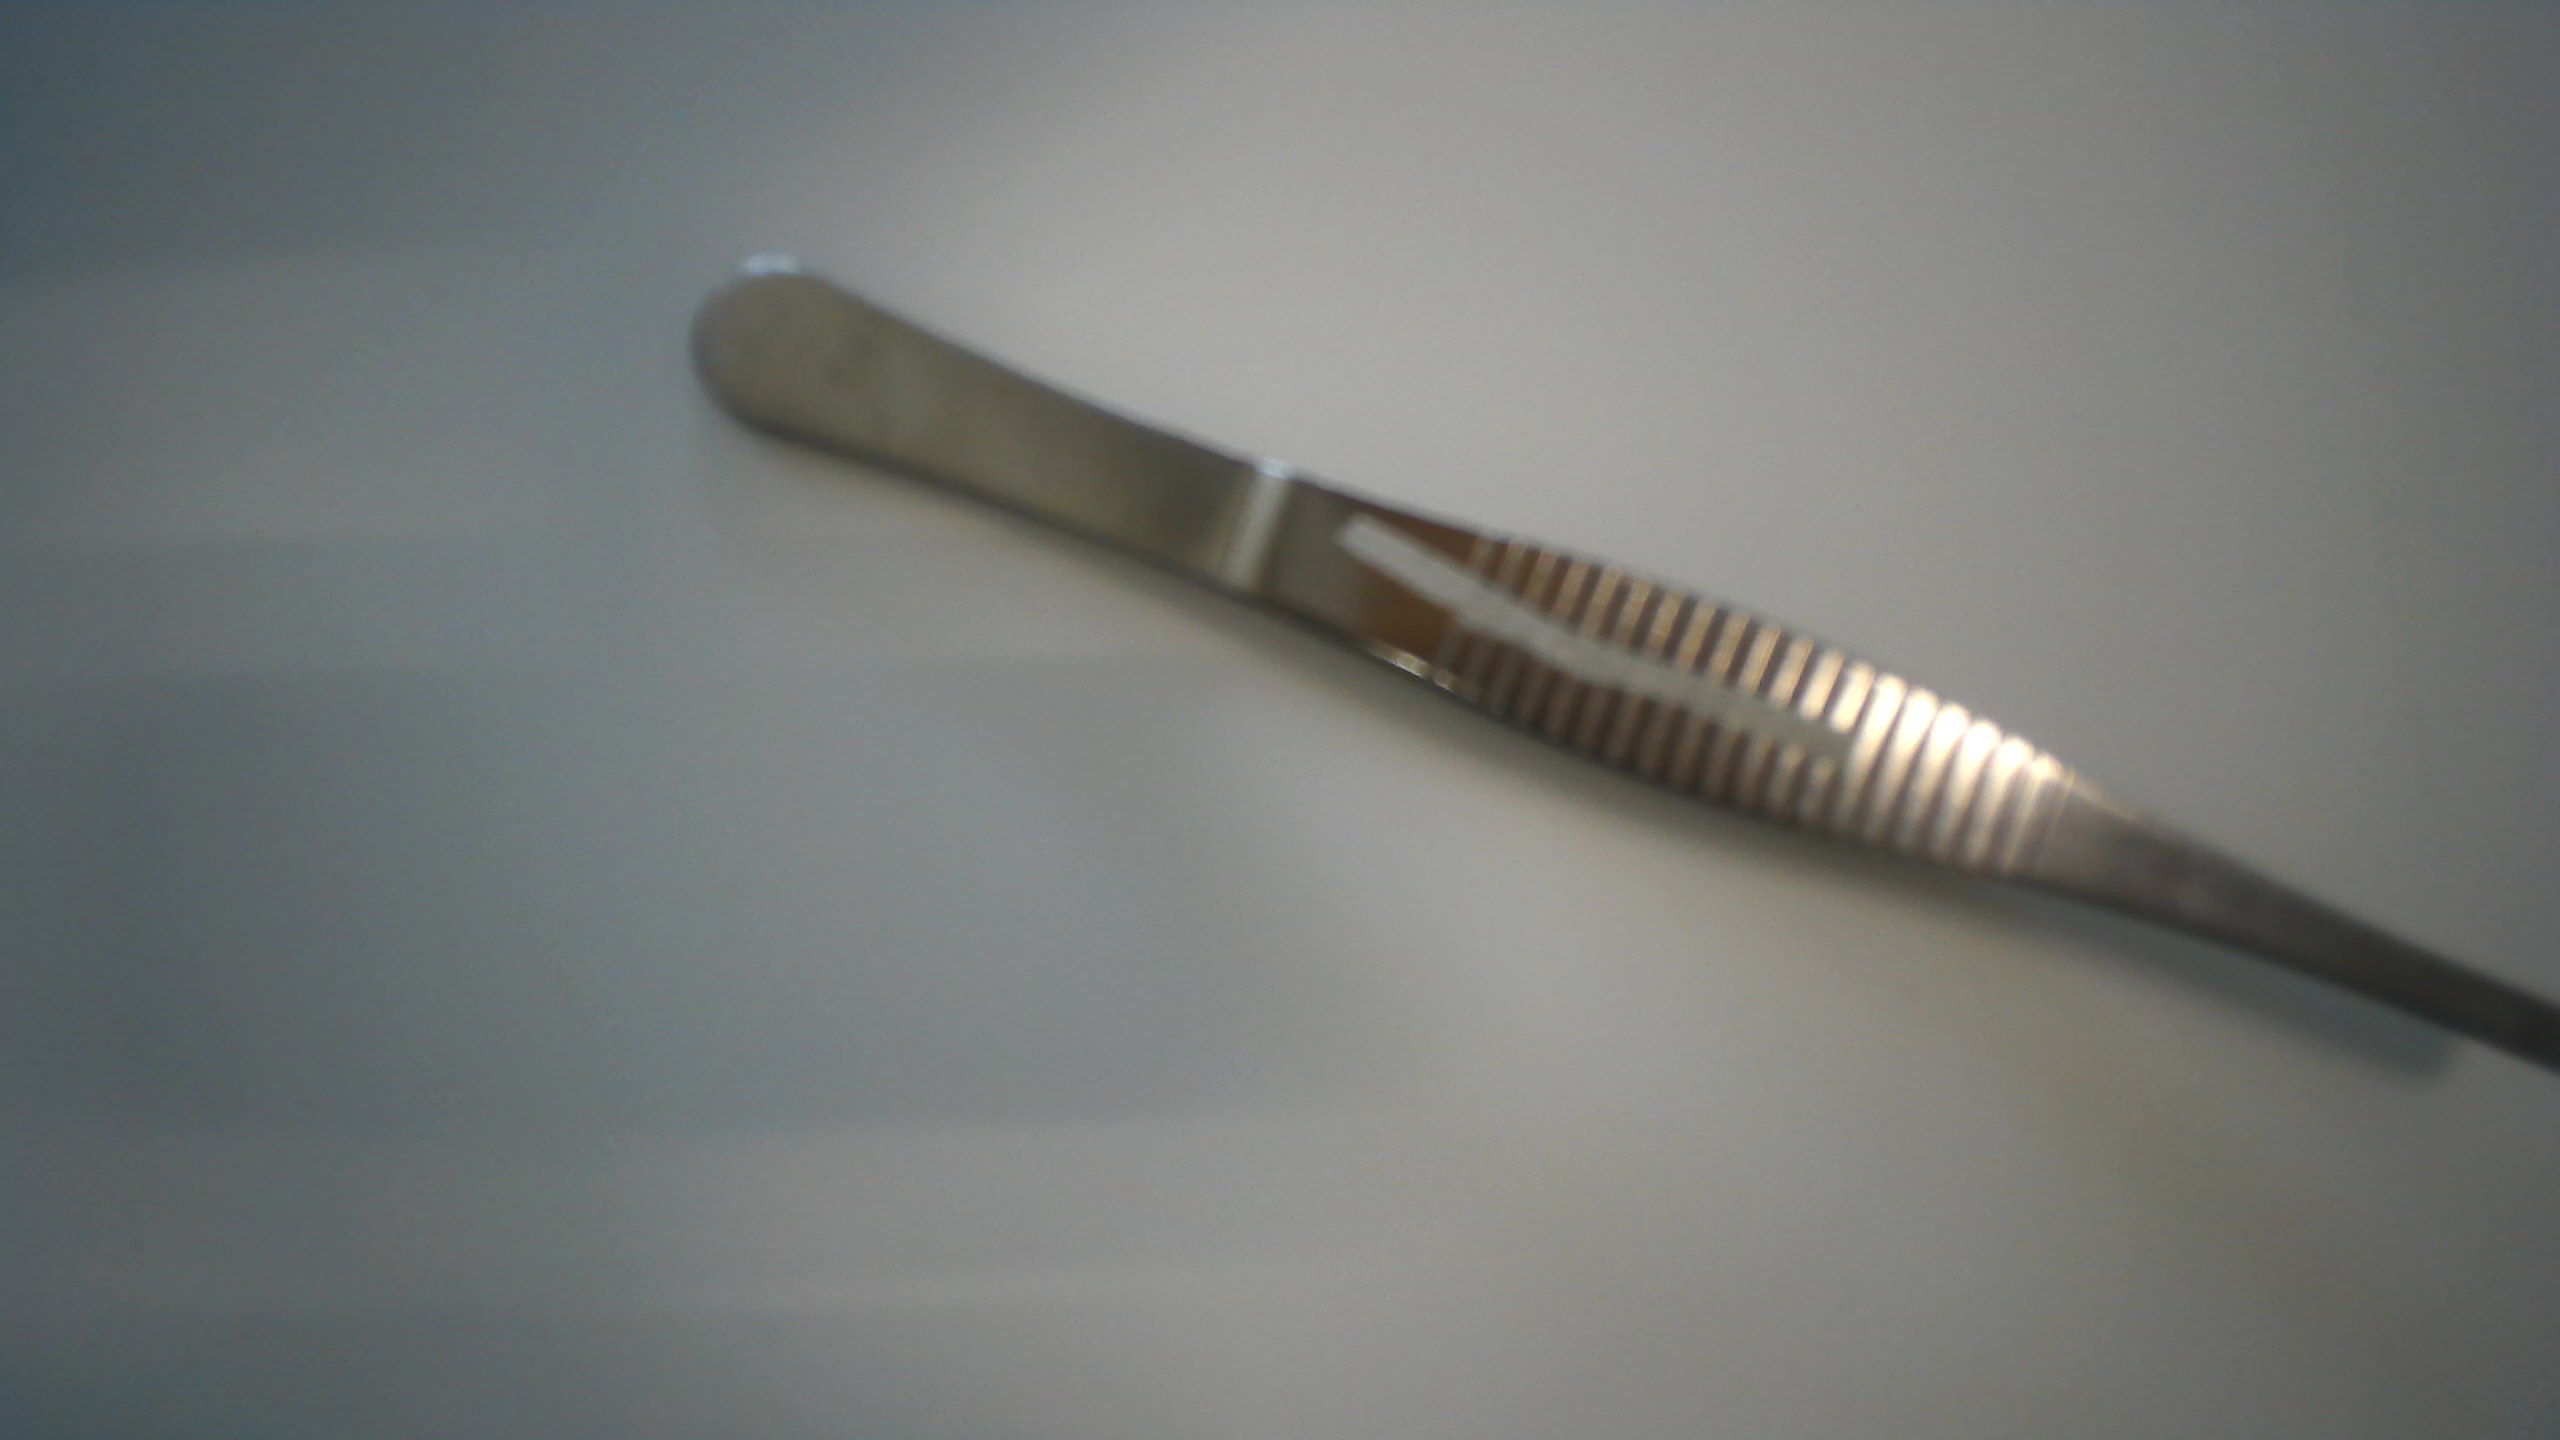Scratches: (1322, 499, 1862, 782)
